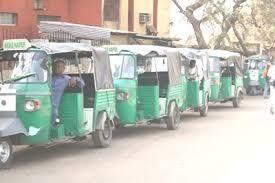keke: (2, 36, 120, 166), (106, 47, 178, 137)
